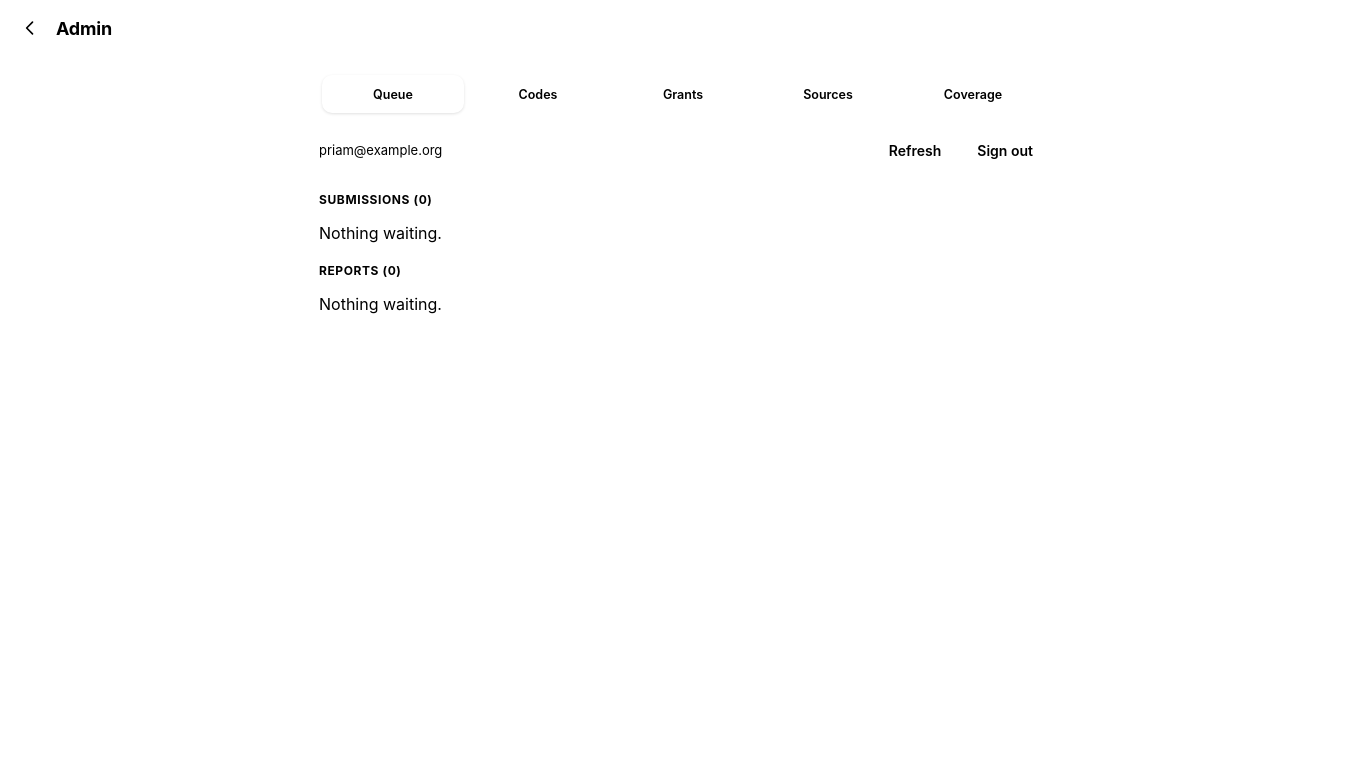
Test: code requests (M8 slice F) › says so when nothing is waiting
This screenshot has width=1366, height=768.
Click the tab "Codes".
click(538, 94)  # box [467, 75, 609, 113]
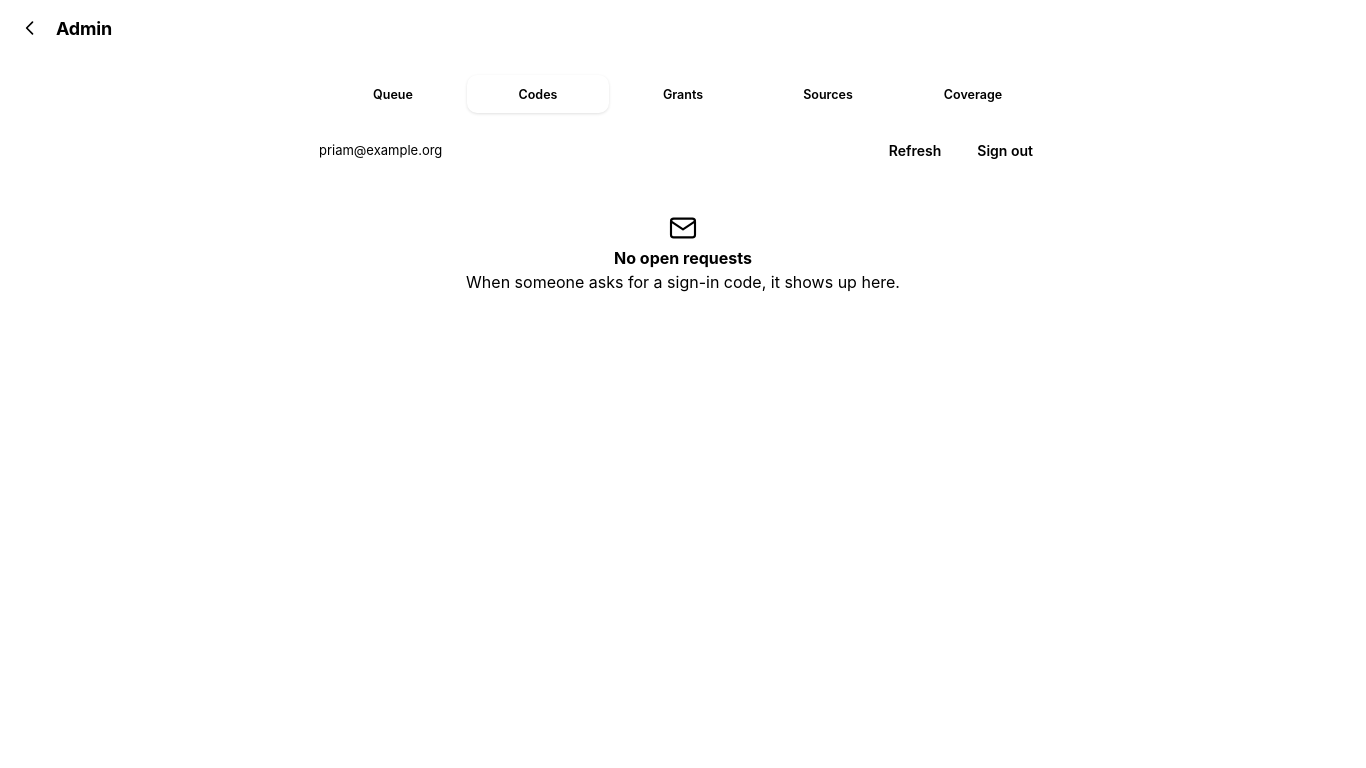
Check: the text "No open requests" is shown, box [614, 248, 752, 268]
